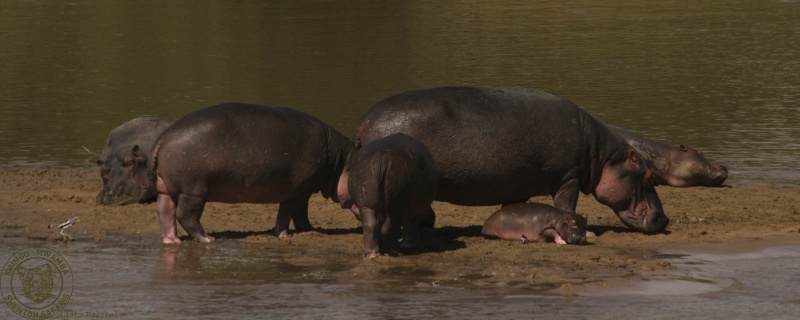hipopotamo: (366, 88, 670, 254), (147, 104, 349, 247), (337, 127, 438, 259), (600, 120, 733, 202), (96, 110, 179, 208), (486, 205, 590, 253)
